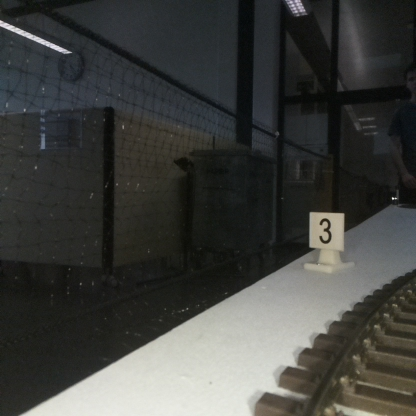white-stop-3: (309, 213, 344, 270)
